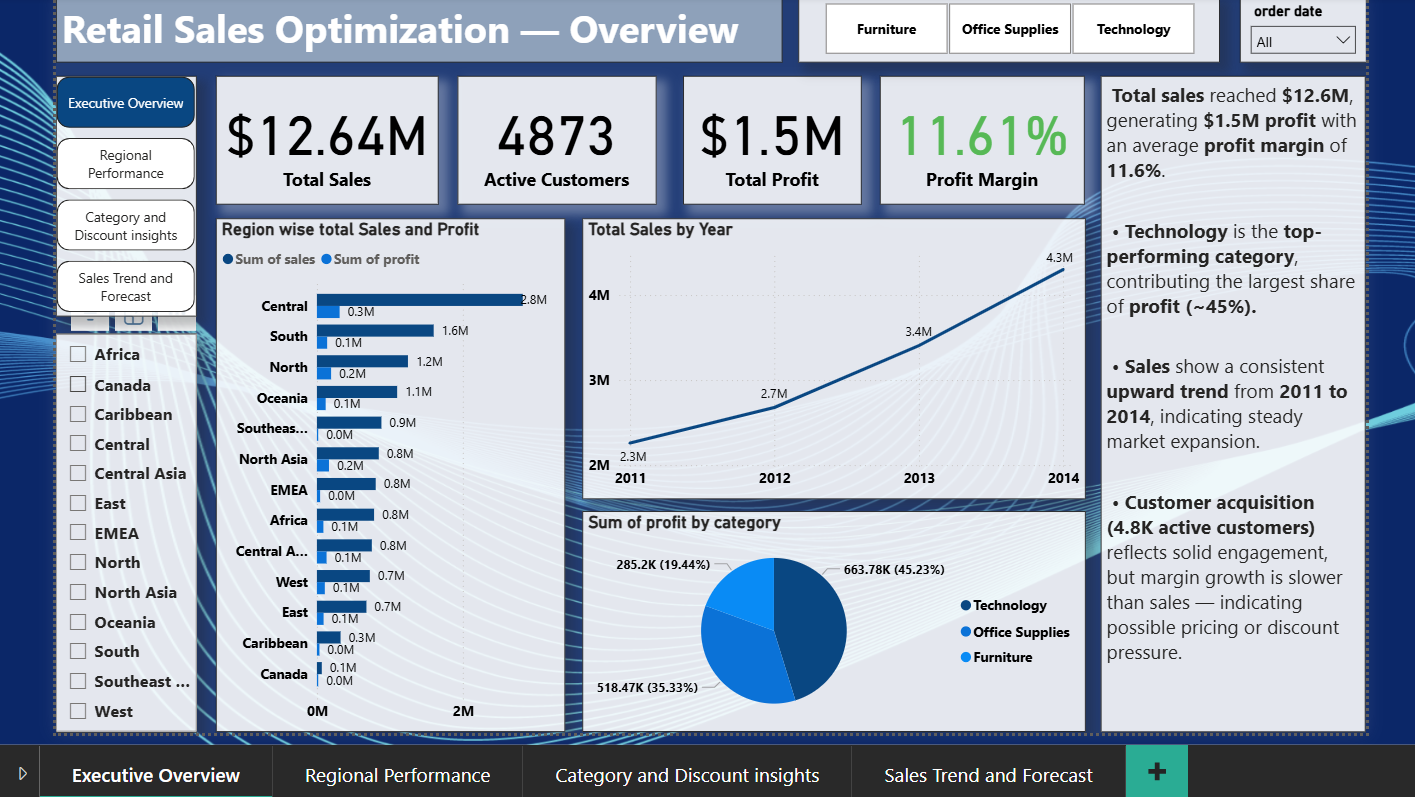

This screenshot's page, from the dashboard's own definition file:
{"tool":"powerbi","page":{"name":"Executive Overview","canvas":[1280,720],"ordinal":0},"visuals":[{"type":"textbox","box":[0,0,709.8,64.7],"z":0},{"type":"card","fields":{"Values":["superstore_engineered.PB_TotalSales"]},"box":[156.9,78.4,217.6,125.5],"z":1000},{"type":"card","fields":{"Values":["superstore_engineered.PB_TotalProfit"]},"box":[613.7,78.4,174.5,125.5],"z":2000},{"type":"card","fields":{"Values":["superstore_engineered.PB_ProfitMargin"]},"box":[805.9,78.4,200,125.5],"z":3000},{"type":"card","fields":{"Values":["superstore_engineered.PB_ActiveCustomers"]},"box":[392.2,78.4,194.1,125.5],"z":4000},{"type":"slicer","fields":{"Values":["daily_kpi.order_date"]},"box":[1156.9,0,123.5,64.7],"z":5000},{"type":"lineChart","title":"Total Sales by Year","fields":{"Y":["daily_kpi.DK_TotalSales"],"Category":["daily_kpi.order_date.Variation.Date Hierarchy.Year"]},"box":[513.7,217.6,492.2,274.5],"z":6000},{"type":"clusteredBarChart","title":"Region wise total Sales and Profit","fields":{"Category":["superstore_engineered.region"],"Y":["Sum(superstore_engineered.sales)","Sum(superstore_engineered.profit)"]},"box":[156.9,217.6,341.2,502],"z":7000},{"type":"slicer","fields":{"Values":["region_summary.region"]},"box":[0,329.4,137.3,390.2],"z":8000},{"type":"slicer","fields":{"Values":["category_region_summary.category"]},"box":[725.5,0,411.8,64.7],"z":9000},{"type":"pieChart","fields":{"Category":["category_region_summary.category"],"Y":["Sum(superstore_engineered.profit)"]},"box":[513.7,503.9,492.2,215.7],"z":10000},{"type":"textbox","box":[1021.6,78.4,258.8,641.2],"z":11000},{"type":"pageNavigator","box":[0,78.4,137.3,235.3],"z":12000}]}

Visuals, with their boxes on the page's 1280x720 design canvas (x1, y1, x2, y2). These are canvas units, not pixel positions in the 1415x797 screenshot, which may show the page scaled, cropped or inside an application window:
textbox: 0, 0, 710, 65
card - superstore_engineered.PB_TotalSales: 157, 78, 374, 204
card - superstore_engineered.PB_TotalProfit: 614, 78, 788, 204
card - superstore_engineered.PB_ProfitMargin: 806, 78, 1006, 204
card - superstore_engineered.PB_ActiveCustomers: 392, 78, 586, 204
slicer - daily_kpi.order_date: 1157, 0, 1280, 65
"Total Sales by Year" lineChart: 514, 218, 1006, 492
"Region wise total Sales and Profit" clusteredBarChart: 157, 218, 498, 720
slicer - region_summary.region: 0, 329, 137, 720
slicer - category_region_summary.category: 726, 0, 1137, 65
pieChart - category_region_summary.category x Sum(superstore_engineered.profit): 514, 504, 1006, 720
textbox: 1022, 78, 1280, 720
pageNavigator: 0, 78, 137, 314
